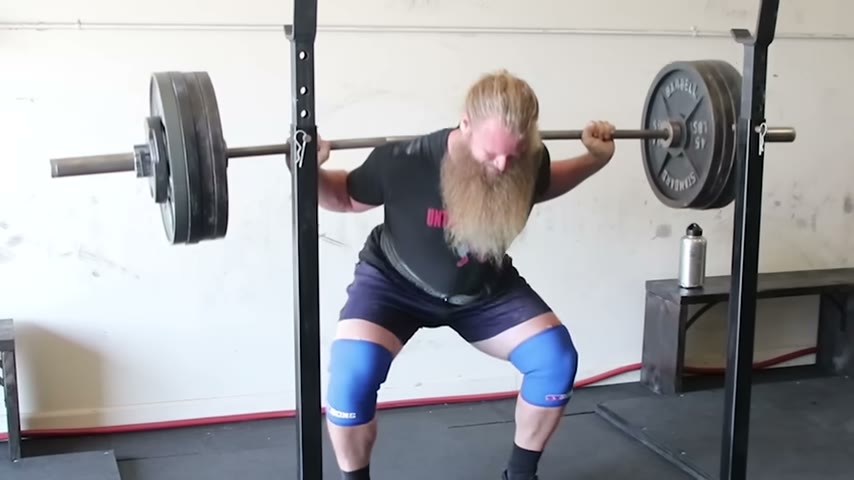barbell_plate_side: (51, 70, 161, 263), (628, 57, 722, 239)
